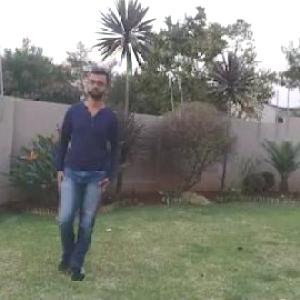follow: (45, 58, 124, 290)
